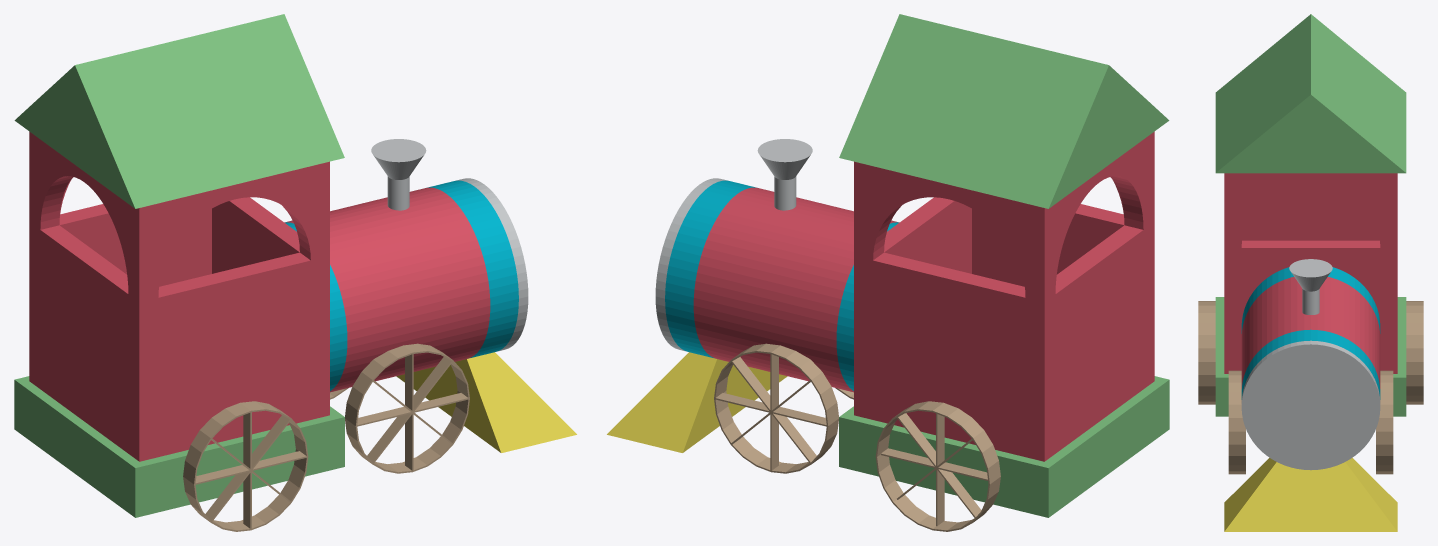
Rendered from train-engine.glb.
3 renders of one model, left to right at view 1: azimuth 30°, elevation 25°; view 2: azimuth 150°, elevation 25°; view 3: azimuth 270°, elevation 25°, orthographic. The views are drawn at different scales.
Parts seen in each view (by area): view 1: Mesh_Mesh_head_geo.001_lambert2SG.001; view 2: Mesh_Mesh_head_geo.001_lambert2SG.001; view 3: Mesh_Mesh_head_geo.001_lambert2SG.001.
Boxes of the visible parts, x1,y1,x2,y2 form: Mesh_Mesh_head_geo.001_lambert2SG.001: [14, 14, 576, 531]; Mesh_Mesh_head_geo.001_lambert2SG.001: [607, 14, 1169, 531]; Mesh_Mesh_head_geo.001_lambert2SG.001: [1198, 14, 1423, 531].
Size of the model in its own units: 47 by 44 by 26.
